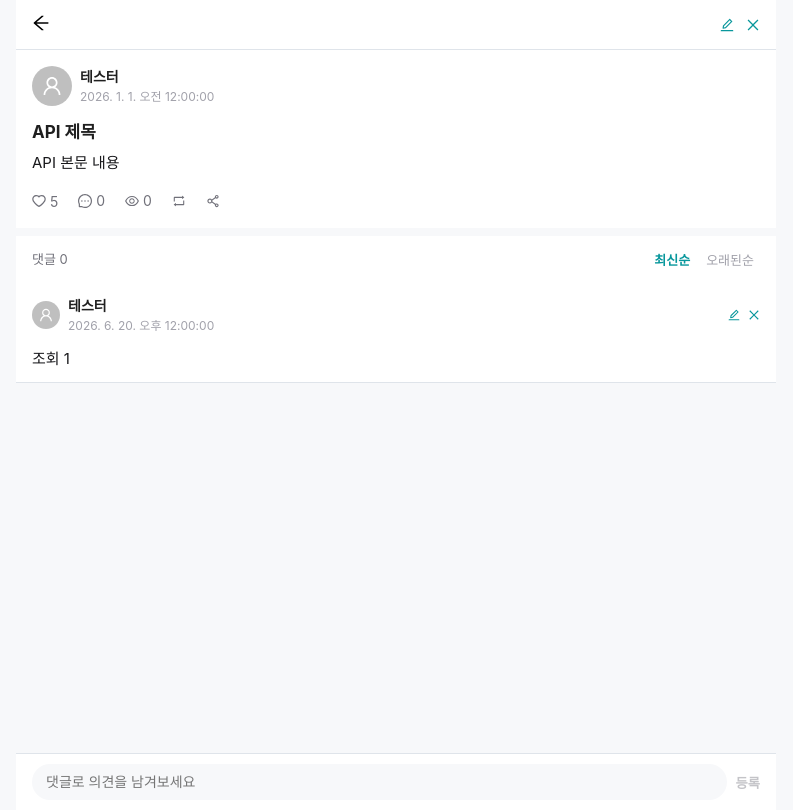
Test: CommunityDetailPage › 댓글 등록 성공 시 목록을 무효화하여 다시 조회한다
Check: the text "조회 1" is shown, box x1=32 y1=349 x2=70 y2=368
Type "새 댓글" into the field with placeholder "댓글로 의견을 남겨보세요" at coordinates (380, 782), box x1=32 y1=764 x2=728 y2=800
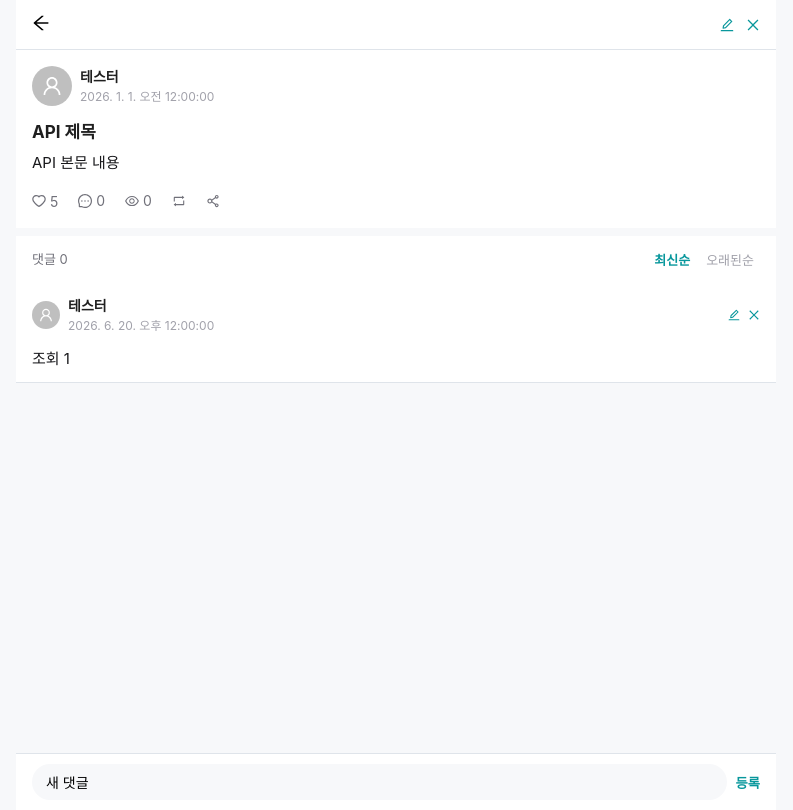
Click the button "등록" at coordinates (748, 782), box x1=736 y1=764 x2=760 y2=800
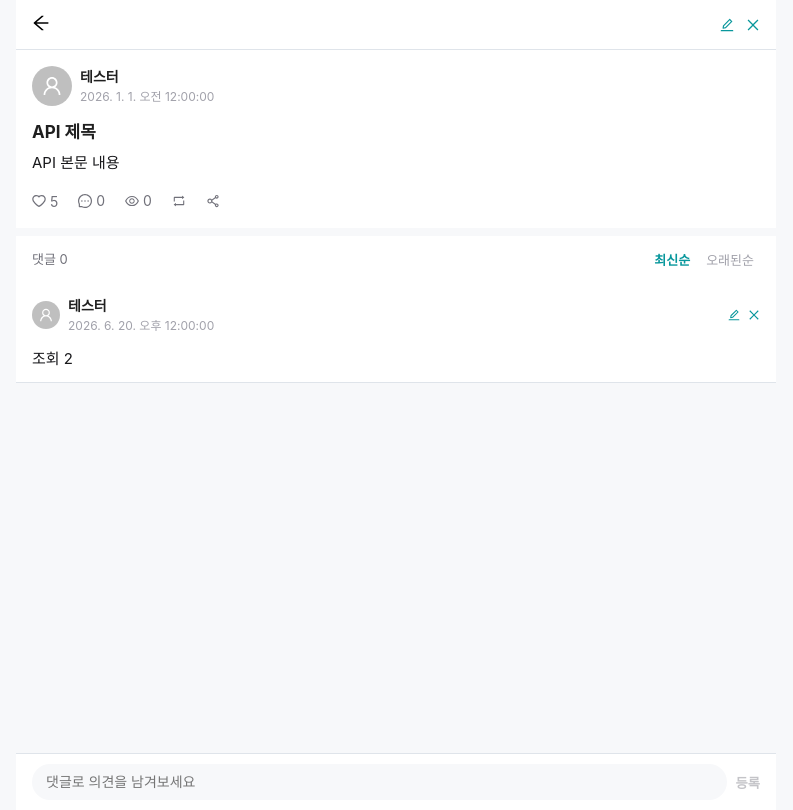
Check: the text "조회 2" is shown, box x1=32 y1=349 x2=73 y2=368
